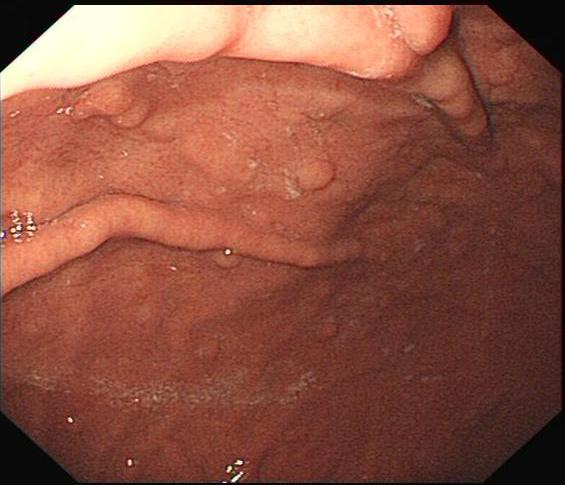Polyp: (68, 81, 151, 132), (396, 7, 453, 59)
